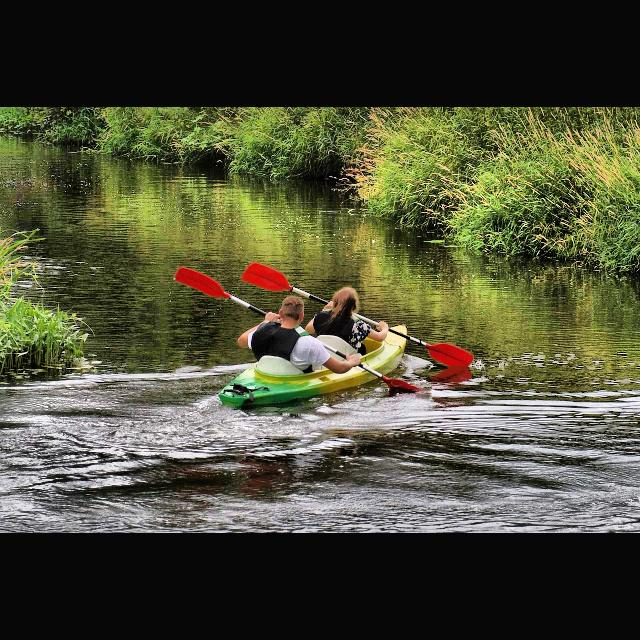kayak: (218, 324, 408, 410)
